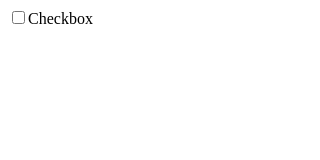
Test: Checkbox › should call onChange when selected
Click the checkbox labelled "Checkbox" at [18, 18], box [12,11,25,24]
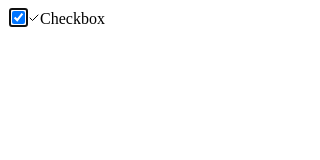
Expected: the checkbox labelled "Checkbox" is checked, [12,11,25,24]
